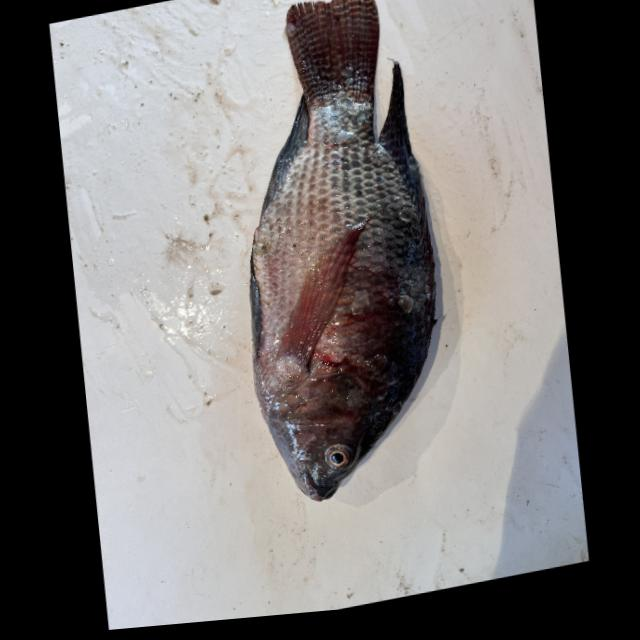Tilapia: (213, 0, 458, 517)
